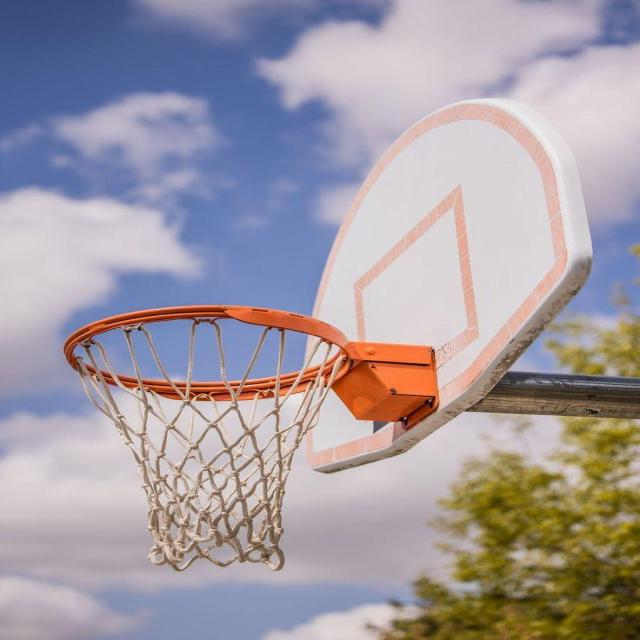hoop: (51, 297, 496, 591)
